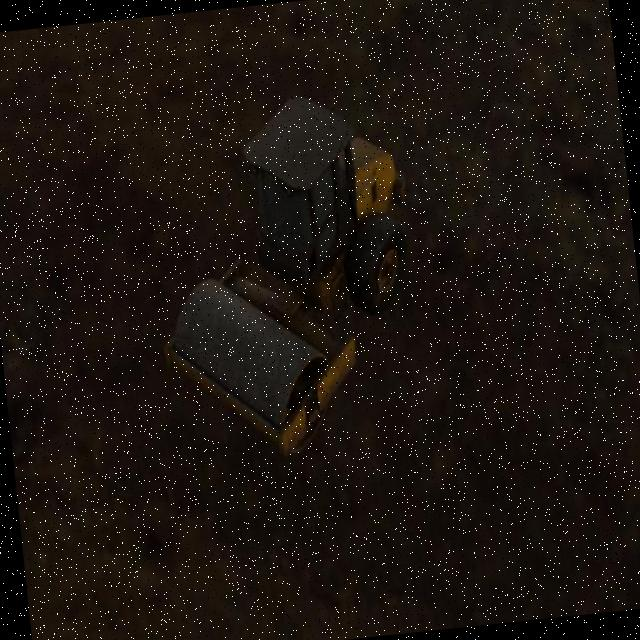Roller: (138, 85, 432, 468)
